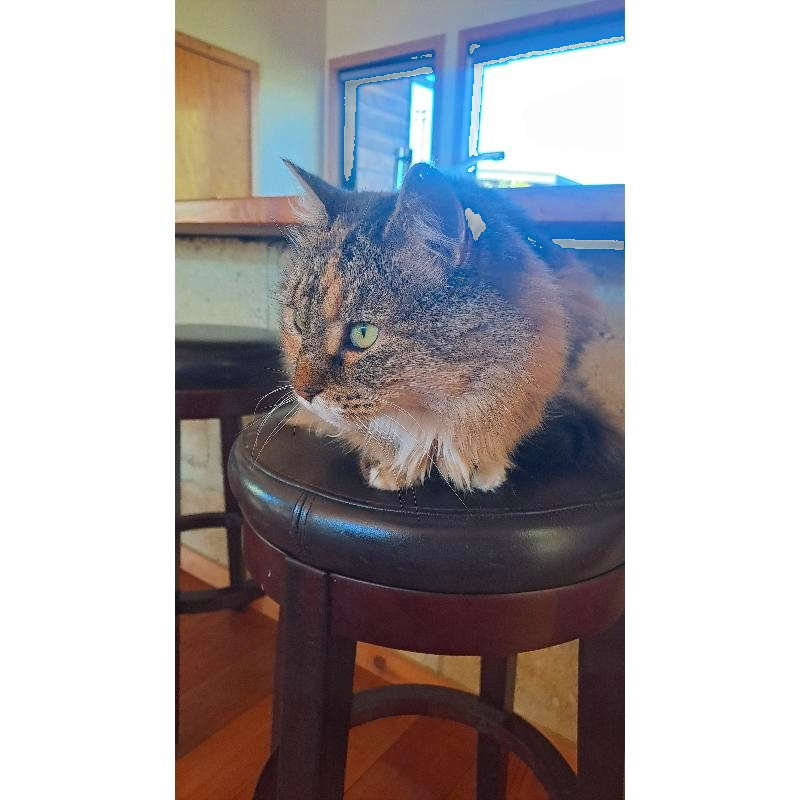yellow: (248, 157, 580, 495)
